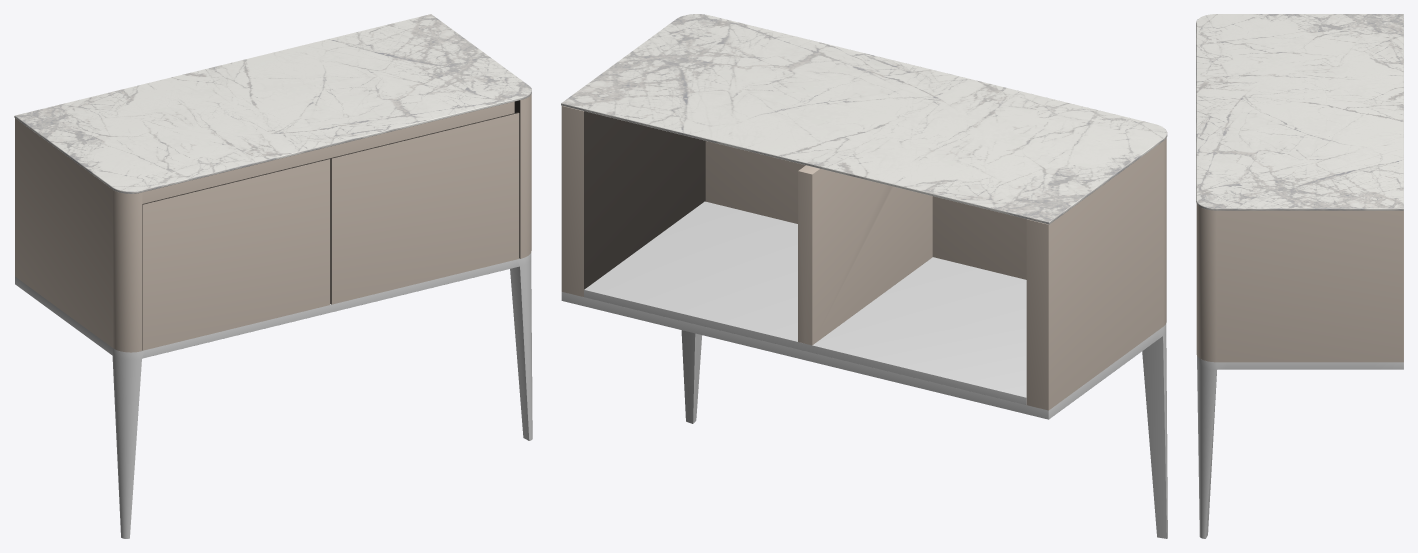
3 renders of one model, left to right at view 1: azimuth 30°, elevation 25°; view 2: azimuth 150°, elevation 25°; view 3: azimuth 270°, elevation 25°, orthographic. The views are drawn at different scales.
Parts seen in each view (by area): view 1: ER02; view 2: ER02; view 3: ER02.
Part boxes in pixels (x1,y1,x2,y2): ER02: [14, 14, 532, 538]; ER02: [561, 14, 1167, 538]; ER02: [1196, 14, 1403, 538].
Size of the model in its own units: 1.1 by 0.8749 by 0.496.
Materials: 5 (1 with a texture image).
